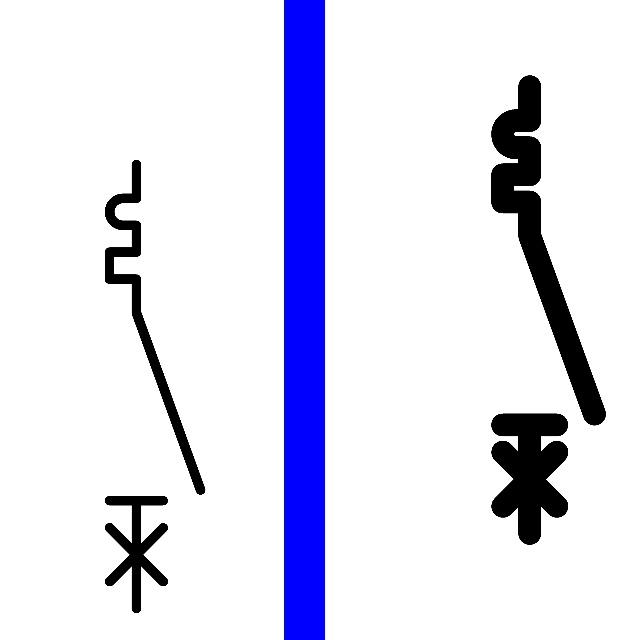interruptor_termomagnetico: (491, 75, 606, 544), (98, 153, 212, 620)
